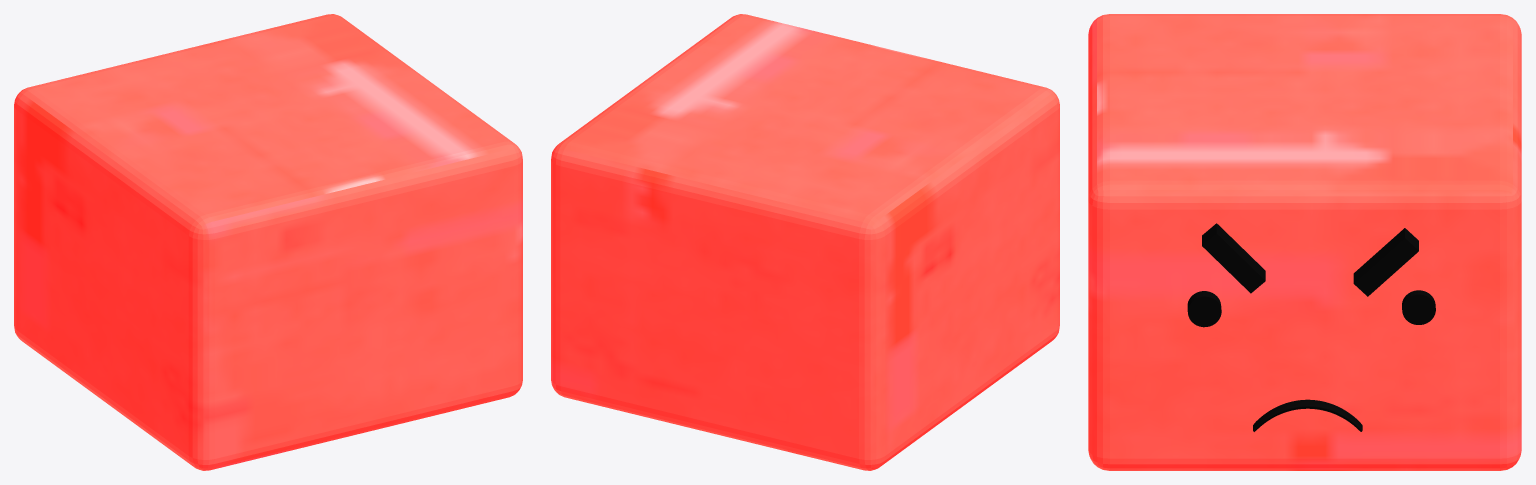
The model's file is packet-abuse.glb.
3 renders of one model, left to right at view 1: azimuth 30°, elevation 25°; view 2: azimuth 150°, elevation 25°; view 3: azimuth 270°, elevation 25°, orthographic. The views are drawn at different scales.
Parts seen in each view (by area): view 1: 立方体; view 2: 立方体; view 3: 立方体, 右眉, 左眉, NURBSカーブ, 右目, 左目.
Boxes of the visible parts, x1=… form: 立方体: x1=14, y1=14, x2=522, y2=470; 立方体: x1=551, y1=14, x2=1059, y2=470; 立方体: x1=1088, y1=14, x2=1521, y2=470; 右眉: x1=1353, y1=228, x2=1418, y2=296; 左眉: x1=1202, y1=223, x2=1265, y2=293; NURBSカーブ: x1=1253, y1=399, x2=1362, y2=431; 右目: x1=1187, y1=291, x2=1221, y2=327; 左目: x1=1402, y1=290, x2=1435, y2=324.
Bounding box in the file's own units: 2.11 × 1.47 × 2.
Materials: 6 (1 with a texture image).
